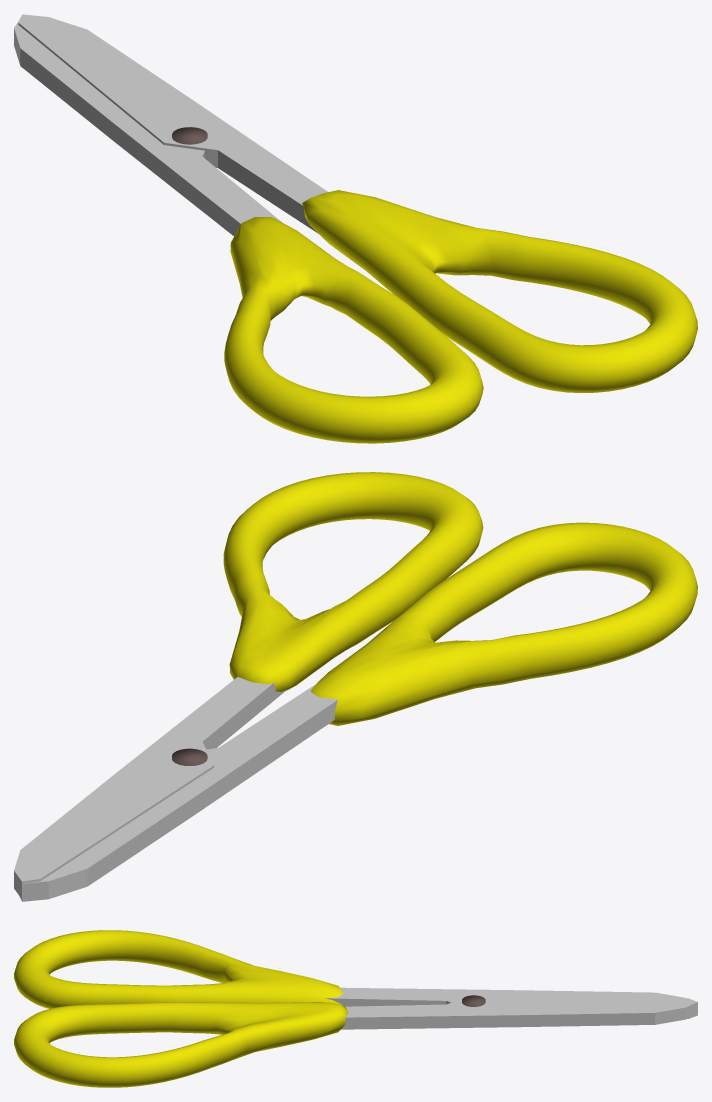
The model's file is scrissors.fbx.
3 renders of one model, top to bottom at view 1: azimuth 30°, elevation 25°; view 2: azimuth 150°, elevation 25°; view 3: azimuth 270°, elevation 25°, orthographic. The views are drawn at different scales.
Parts seen in each view (by area): view 1: Scrissors; view 2: Scrissors; view 3: Scrissors.
Part boxes in pixels (<box>): Scrissors: <box>14,14,697,443</box>; Scrissors: <box>14,472,697,901</box>; Scrissors: <box>14,930,697,1087</box>.
Size of the model in its own units: 4.48 by 0.42 by 9.26.
